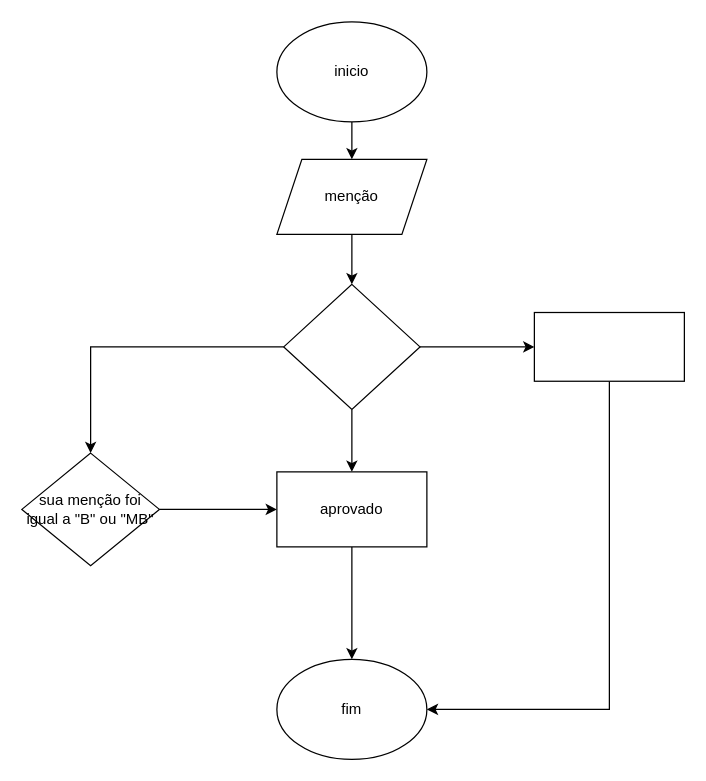
The diagram is 706 pixels wide and 781 high, and some of its shapes have lost their labels. The box of each missing label's shape, as (x1, y1, x2, y2) in pixels:
sua menção é igual a "I" ou "R"?: (282, 283, 420, 409)
você esta reprovado: (533, 311, 684, 381)
